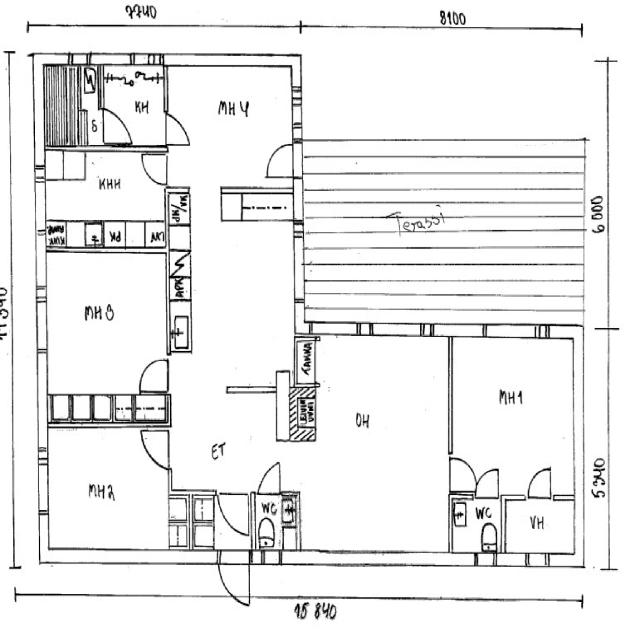door: (217, 490, 253, 539), (218, 556, 251, 600), (140, 425, 172, 470), (262, 140, 297, 179), (447, 452, 479, 494), (524, 462, 556, 500), (138, 356, 169, 394), (102, 107, 131, 146), (139, 149, 169, 186), (163, 110, 193, 146), (473, 465, 502, 500), (257, 459, 284, 495)
window: (371, 318, 428, 340), (484, 321, 542, 342), (290, 176, 302, 222)
zone: (302, 332, 450, 558), (165, 180, 294, 394), (38, 395, 174, 551), (448, 331, 576, 489), (36, 246, 172, 394), (167, 65, 295, 186), (39, 147, 166, 250), (100, 62, 168, 148), (42, 62, 102, 147), (503, 496, 575, 557), (448, 494, 502, 553), (253, 493, 296, 550), (46, 220, 103, 248), (294, 335, 317, 384)
